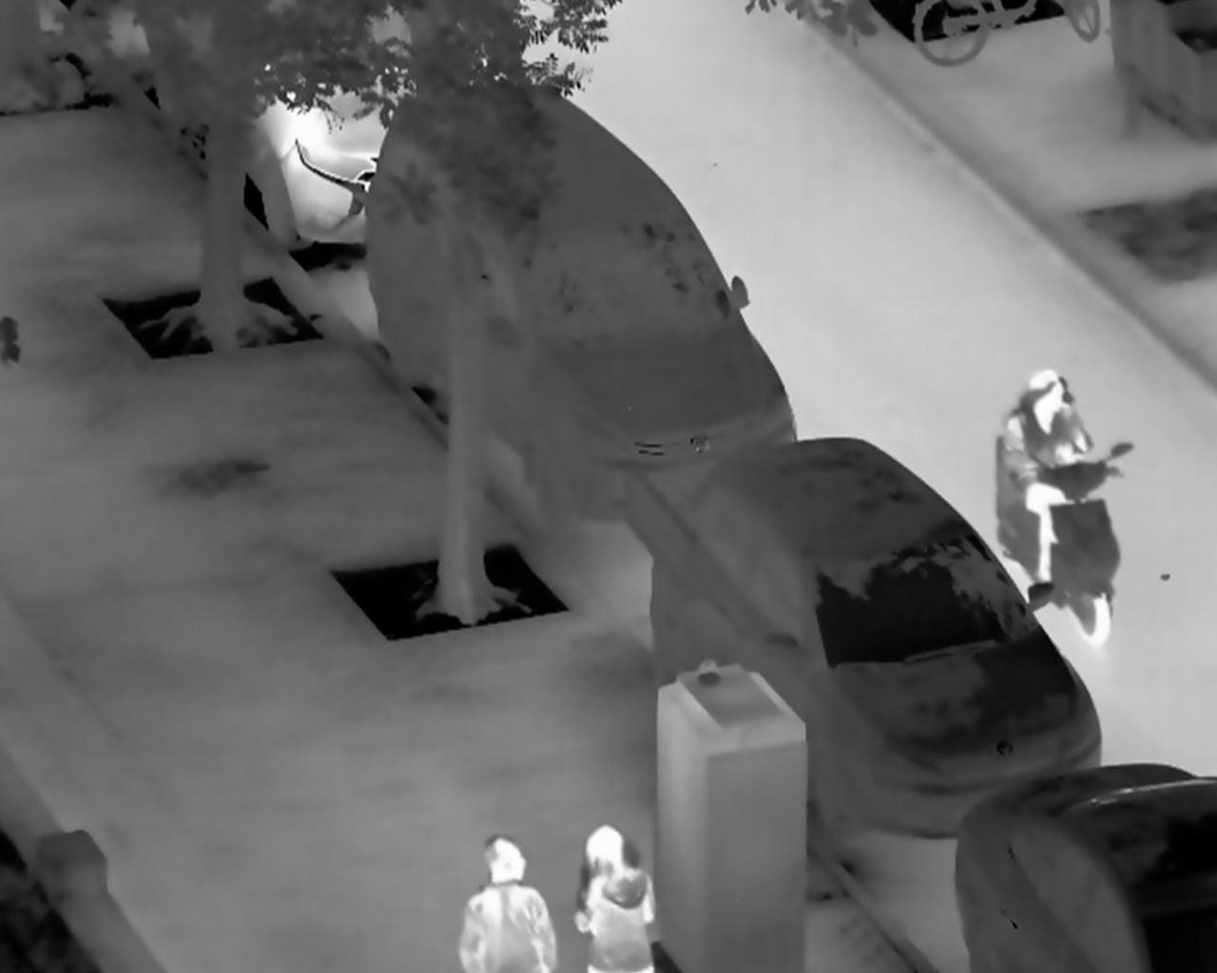person: (1003, 366, 1105, 588), (454, 831, 561, 973), (574, 823, 659, 973)
